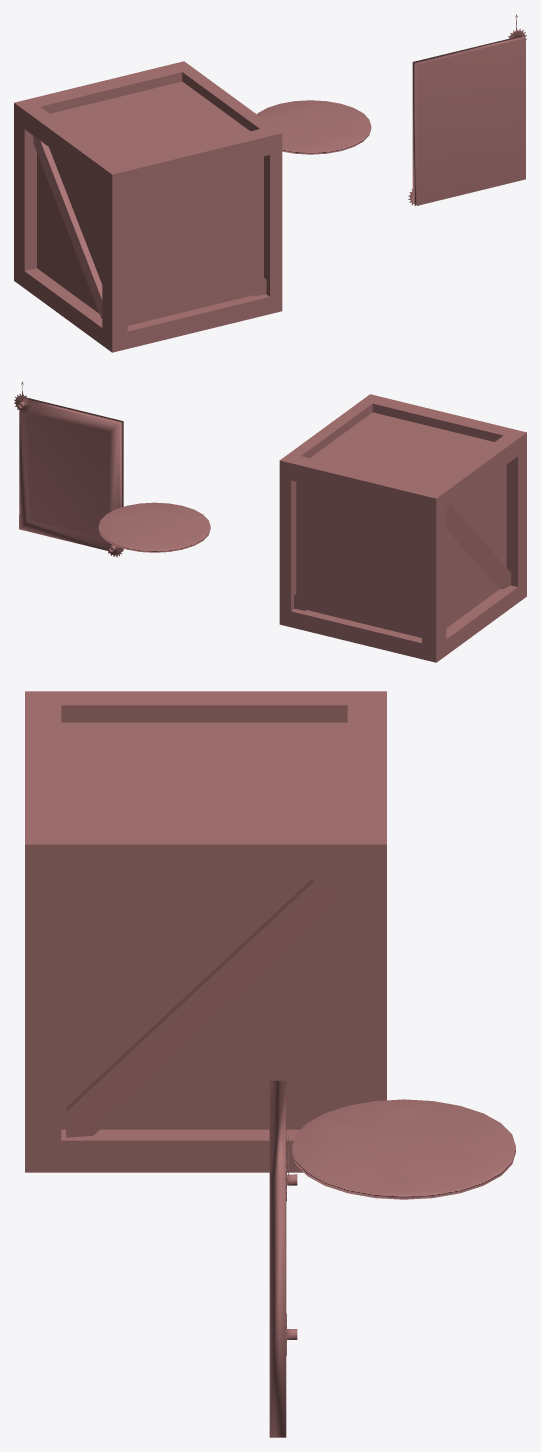
The model's file is CajaMonedaEspejoMovimiento.fbx.
3 views of the same model, one above another, from view 1: azimuth 30°, elevation 25°; view 2: azimuth 150°, elevation 25°; view 3: azimuth 270°, elevation 25° (orthographic). The views are drawn at different scales.
Parts seen in each view (by area): view 1: caja, polySurface34, moneda; view 2: caja, polySurface34, moneda; view 3: caja, moneda, polySurface34.
Boxes of the visible parts, left/top/right/bottom form: caja: left=14, top=61, right=282, bottom=352; polySurface34: left=408, top=14, right=526, bottom=205; moneda: left=257, top=100, right=371, bottom=154; caja: left=279, top=394, right=526, bottom=662; polySurface34: left=14, top=381, right=123, bottom=557; moneda: left=98, top=502, right=210, bottom=552; caja: left=25, top=691, right=386, bottom=1172; moneda: left=292, top=1099, right=515, bottom=1199; polySurface34: left=269, top=1080, right=297, bottom=1437.
Size of the model in its own units: 13.71 by 4.8 by 6.52.
